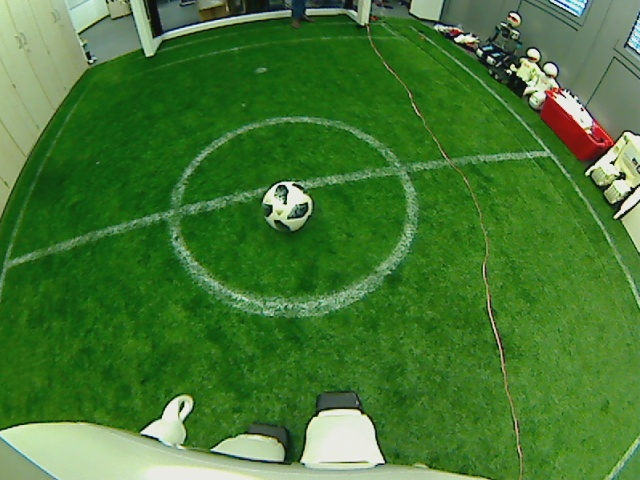ball: (261, 178, 314, 232)
